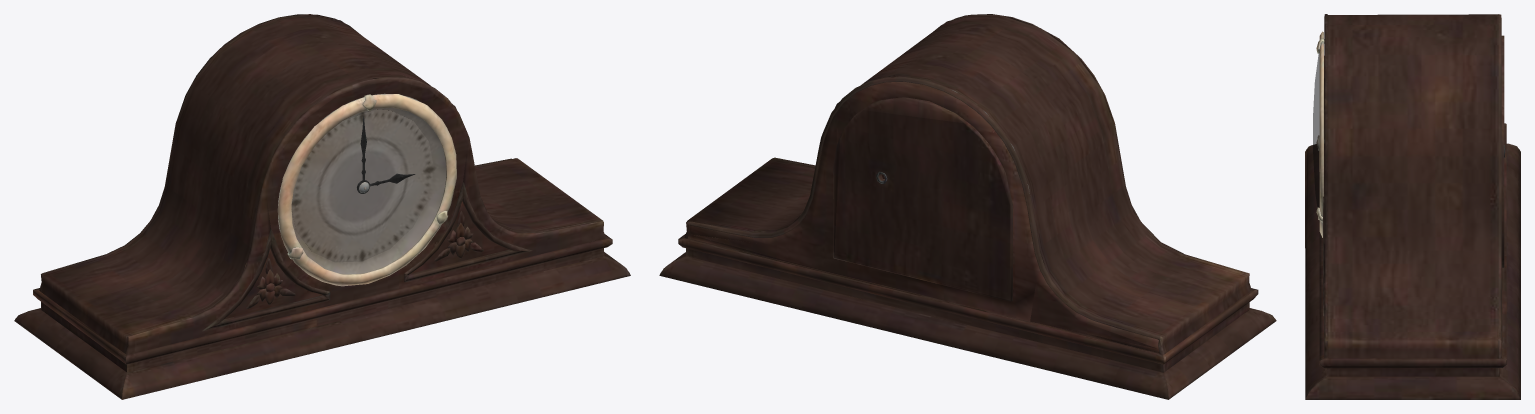
Rendered from ph_mantel_clock_01.glb.
3 renders of one model, left to right at view 1: azimuth 30°, elevation 25°; view 2: azimuth 150°, elevation 25°; view 3: azimuth 270°, elevation 25°, orthographic.
Parts seen in each view (by area): view 1: mantel_clock_01; view 2: mantel_clock_01; view 3: mantel_clock_01.
Boxes of the visible parts, x1=… form: mantel_clock_01: x1=14, y1=14, x2=630, y2=399; mantel_clock_01: x1=659, y1=14, x2=1276, y2=399; mantel_clock_01: x1=1305, y1=14, x2=1520, y2=399.
Size of the model in its own units: 0.3421 by 0.1605 by 0.1256.
Materials: 2 (2 with a texture image).
